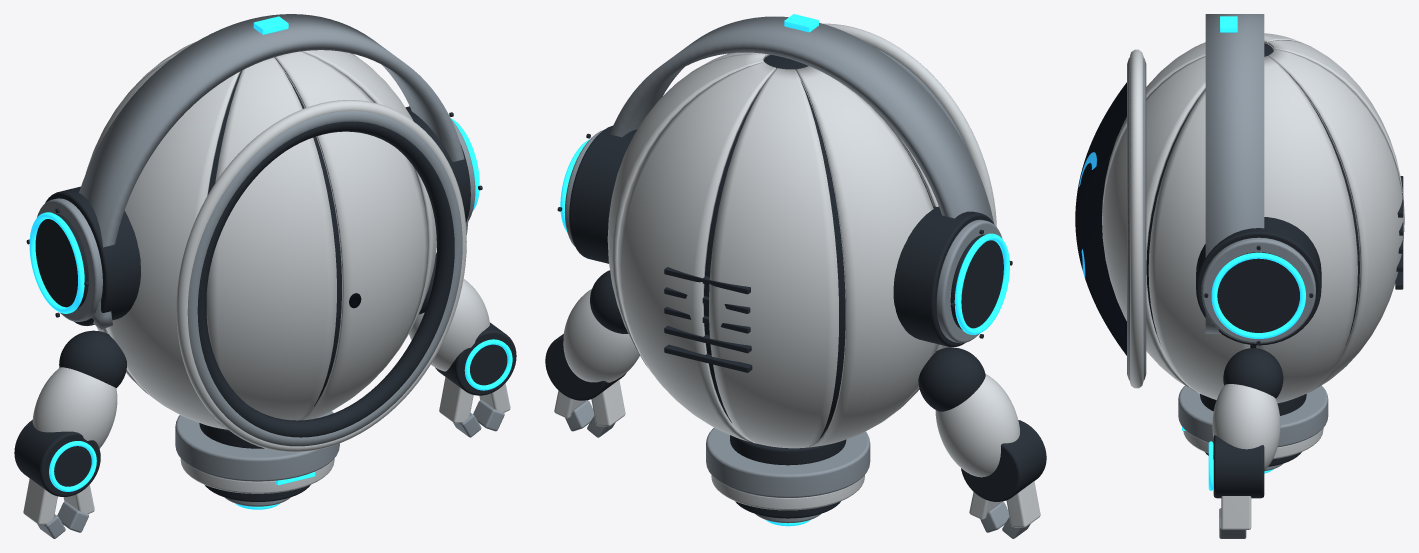
The model's file is companion.glb.
The picture shows the model from 3 angles, left to right: view 1: azimuth 30°, elevation 25°; view 2: azimuth 150°, elevation 25°; view 3: azimuth 270°, elevation 25°; orthographic projection. The views are drawn at different scales.
Visible parts, largest first — view 1: Companion shell panel 7, Companion shell panel 0, Companion protective titanium arch, Companion shell panel 6, Companion gasket, Companion screen rim, Companion white bezel, Companion lift engine.001, Companion upper arm armor, Companion ear bearing, Companion wrist bearing, Companion ear inset (+18 smaller); view 2: Companion shell panel 4, Companion shell panel 3, Companion shell panel 5, Companion protective titanium arch, Companion lift engine.001, Companion ear bearing, Companion shell panel 2, Companion upper arm armor, Companion ear bearing.001, Companion upper arm armor.001, Companion sealed core, Companion wrist bearing (+15 smaller); view 3: Companion shell panel 2, Companion shell panel 1, Companion shell panel 3, Companion protective titanium arch, Companion shell panel 0, Companion curved face glass, Companion ear inset.001, Companion white bezel, Companion upper arm armor.001, Companion lift engine.001, Companion ear silver rim.001, Companion ear bearing.001 (+10 smaller).
Part boxes in pixels (left/top/right/bottom): Companion shell panel 7: left=206, top=57, right=336, bottom=420; Companion shell panel 0: left=274, top=51, right=428, bottom=420; Companion protective titanium arch: left=79, top=14, right=468, bottom=329; Companion shell panel 6: left=107, top=71, right=240, bottom=429; Companion gasket: left=197, top=121, right=454, bottom=437; Companion screen rim: left=187, top=111, right=462, bottom=446; Companion white bezel: left=176, top=100, right=466, bottom=452; Companion lift engine.001: left=175, top=411, right=339, bottom=481; Companion upper arm armor: left=32, top=367, right=117, bottom=448; Companion ear bearing: left=45, top=186, right=140, bottom=325; Companion wrist bearing: left=14, top=420, right=100, bottom=496; Companion ear inset: left=35, top=213, right=88, bottom=308; Companion shell panel 4: left=709, top=68, right=838, bottom=448; Companion shell panel 3: left=617, top=62, right=776, bottom=442; Companion shell panel 5: left=796, top=66, right=938, bottom=447; Companion protective titanium arch: left=610, top=16, right=993, bottom=222; Companion lift engine.001: left=706, top=427, right=870, bottom=497; Companion ear bearing: left=893, top=205, right=994, bottom=347; Companion shell panel 2: left=607, top=54, right=765, bottom=367; Companion upper arm armor: left=935, top=374, right=1019, bottom=477; Companion ear bearing.001: left=569, top=125, right=636, bottom=263; Companion upper arm armor.001: left=563, top=289, right=639, bottom=382; Companion sealed core: left=703, top=55, right=933, bottom=438; Companion wrist bearing: left=961, top=420, right=1046, bottom=501; Companion shell panel 2: left=1256, top=56, right=1357, bottom=403; Companion shell panel 1: left=1148, top=90, right=1250, bottom=399; Companion shell panel 3: left=1268, top=48, right=1404, bottom=392; Companion protective titanium arch: left=1205, top=14, right=1264, bottom=333; Companion shell panel 0: left=1102, top=56, right=1205, bottom=391; Companion curved face glass: left=1075, top=82, right=1126, bottom=355; Companion ear inset.001: left=1217, top=252, right=1299, bottom=332; Companion white bezel: left=1130, top=49, right=1143, bottom=388; Companion upper arm armor.001: left=1212, top=384, right=1280, bottom=470; Companion lift engine.001: left=1178, top=385, right=1328, bottom=447; Companion ear silver rim.001: left=1201, top=237, right=1315, bottom=343; Companion ear bearing.001: left=1196, top=217, right=1321, bottom=345.
Bounding box in the file's own units: 0.736 × 0.7185 × 0.4829.
5 materials, 1 textured.
